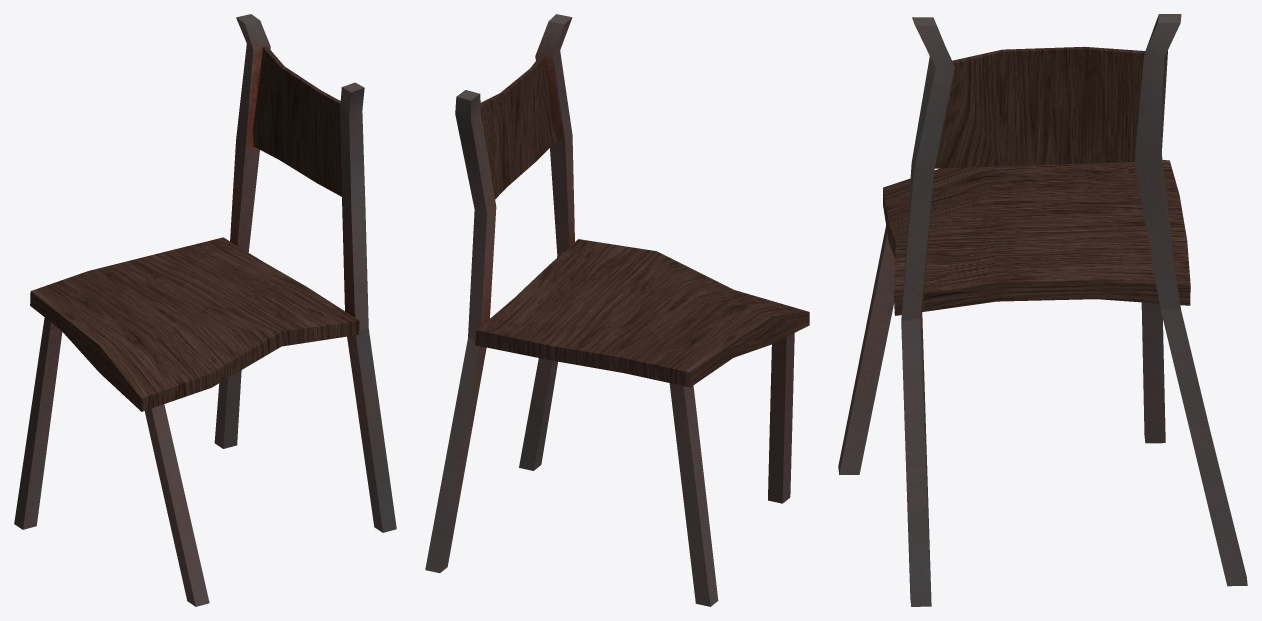
Rendered from broken wooden chair.fbx.
3 views of the same model, side by side, from view 1: azimuth 30°, elevation 25°; view 2: azimuth 150°, elevation 25°; view 3: azimuth 270°, elevation 25° (orthographic). The views are drawn at different scales.
Parts seen in each view (by area): view 1: broken wooden chair; view 2: broken wooden chair; view 3: broken wooden chair.
Part boxes in pixels (bbox=[...]): broken wooden chair: bbox=[14, 14, 396, 606]; broken wooden chair: bbox=[425, 14, 809, 606]; broken wooden chair: bbox=[838, 14, 1247, 606].
Bounding box in the file's own units: 0.5949 × 0.9049 × 0.5962.
